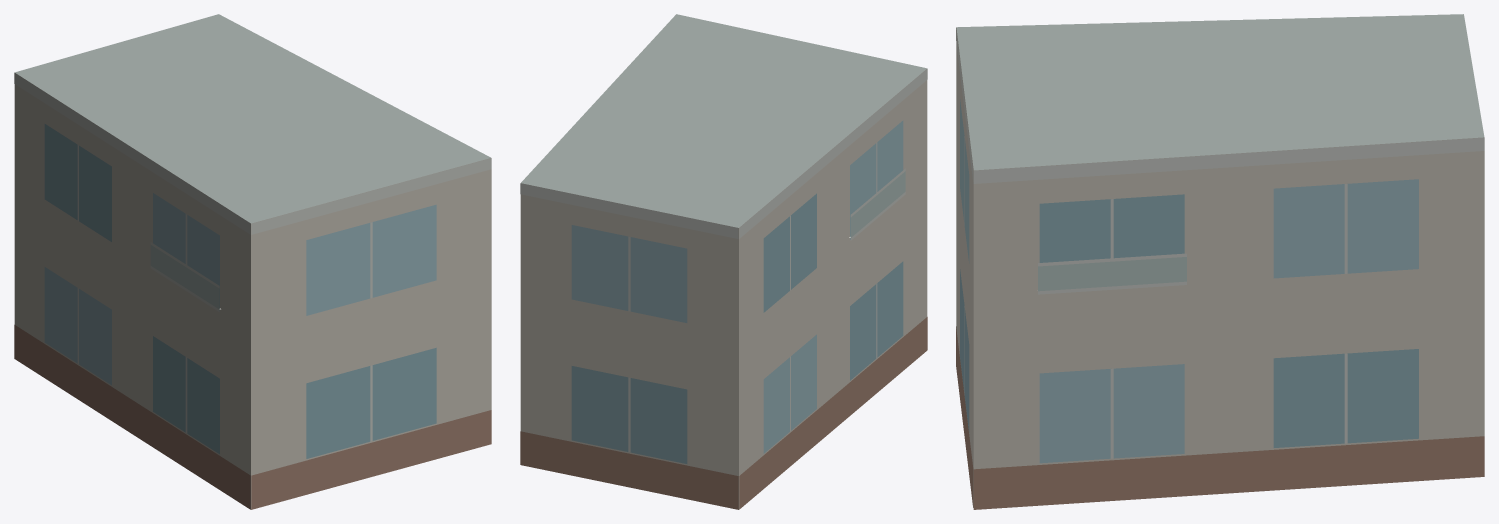
File: survey-upis-32811786.glb
3 renders of one model, left to right at view 1: azimuth 30°, elevation 25°; view 2: azimuth 150°, elevation 25°; view 3: azimuth 270°, elevation 25°, orthographic. The views are drawn at different scales.
Parts seen in each view (by area): view 1: survey-upis-32811786.tmp; view 2: survey-upis-32811786.tmp; view 3: survey-upis-32811786.tmp.
Part boxes in pixels (bbox=[...]): survey-upis-32811786.tmp: bbox=[14, 14, 491, 509]; survey-upis-32811786.tmp: bbox=[520, 14, 927, 509]; survey-upis-32811786.tmp: bbox=[956, 14, 1484, 509].
Size of the model in its own units: 6.04 by 6.1 by 8.61.
